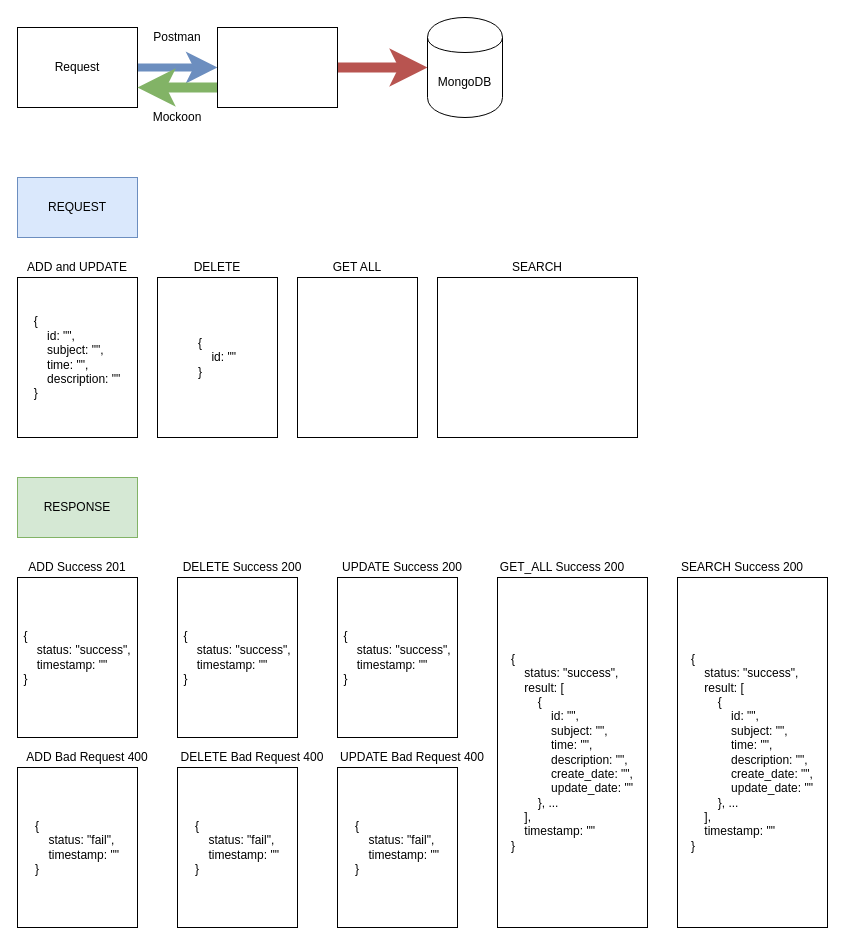
This 845x945 diagram has some shape labels left out. Each missing label, with the box of its shape:
API: (216, 26, 338, 108)
{ start_date: "YYYYMMDD", end_date: "YYYYMMDD", subject: "" }: (436, 276, 638, 438)
